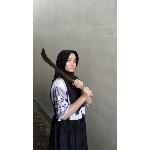Golok: (41, 46, 92, 92)
